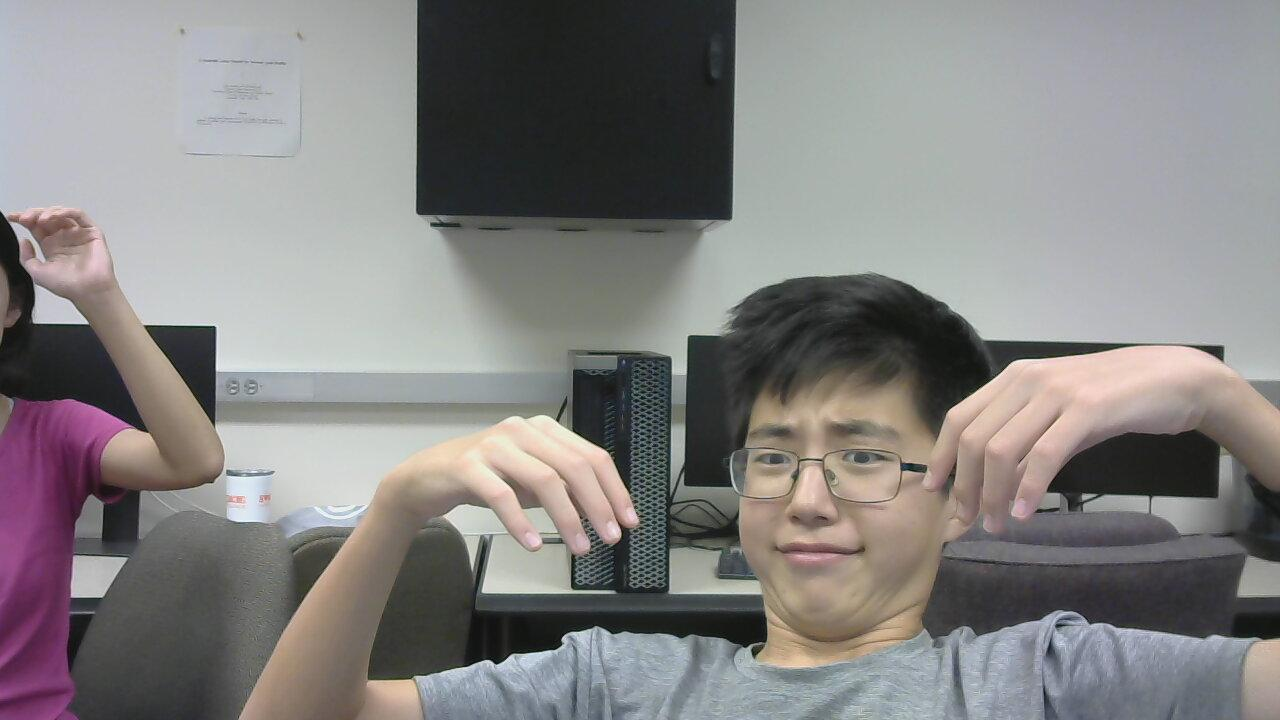hands: (910, 323, 1222, 522), (367, 393, 668, 570), (10, 190, 137, 313)
